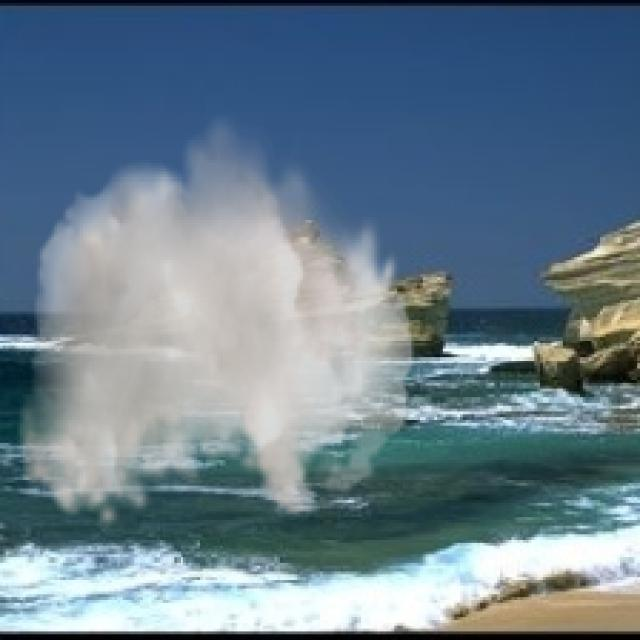smoke: (17, 109, 414, 528)
